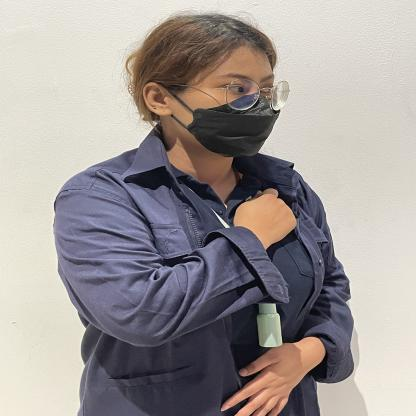Sadness: (146, 166, 321, 291)
